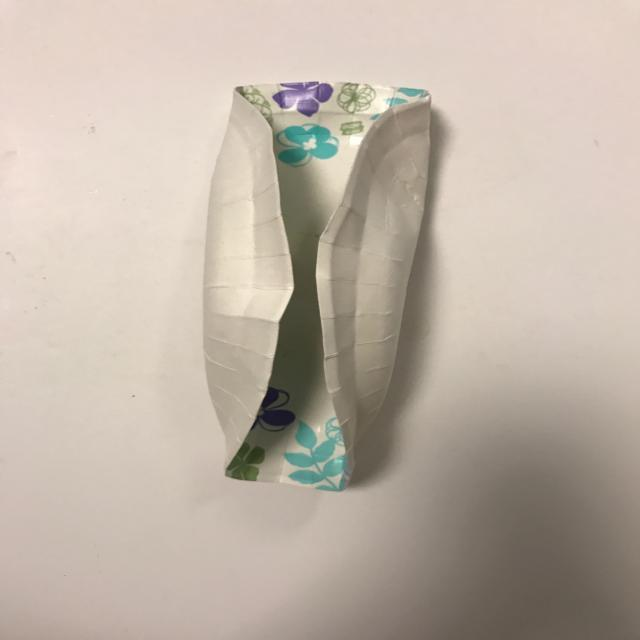paper: (197, 81, 437, 494)
